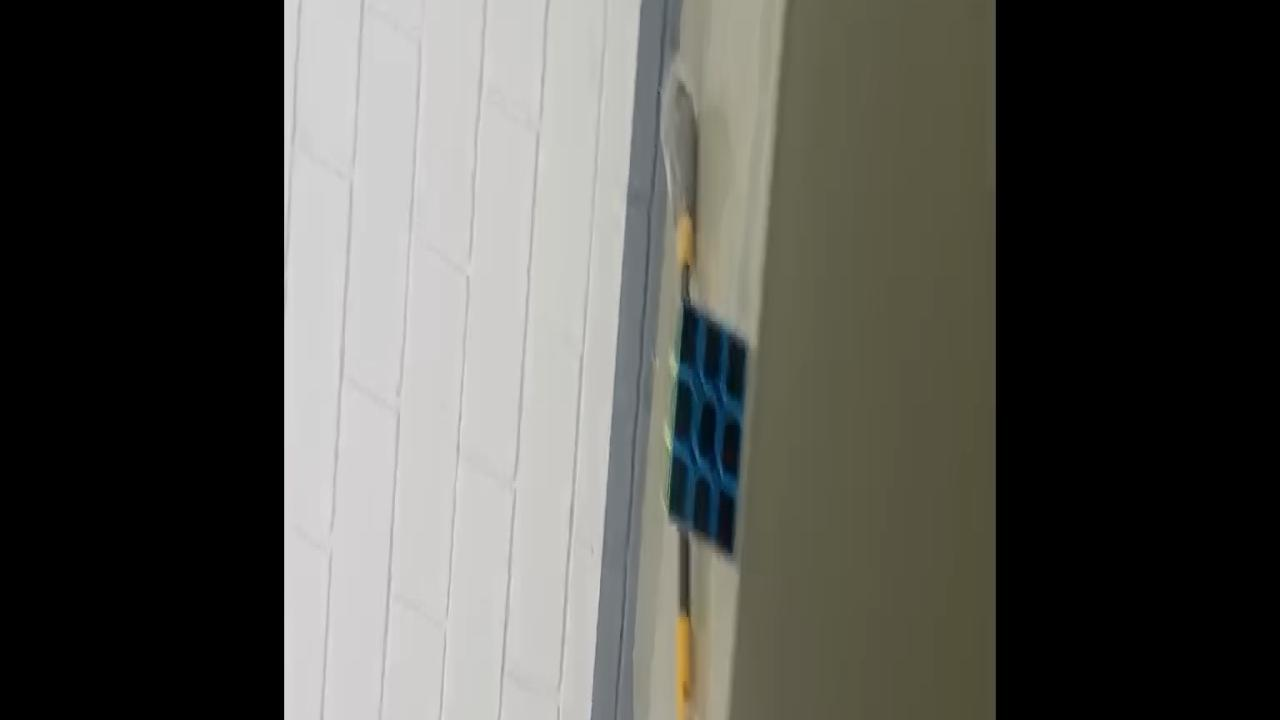Cube: (661, 296, 751, 568)
